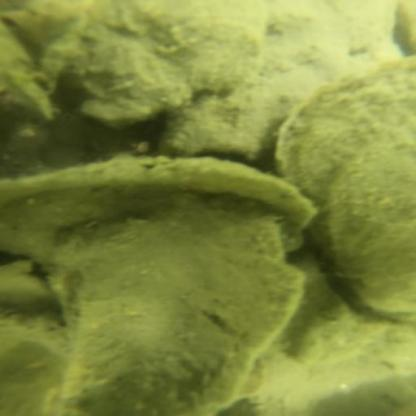Oyster-Closed: (50, 202, 304, 416), (268, 55, 413, 315), (0, 151, 311, 268)
Oyster-Open: (63, 1, 268, 128)
